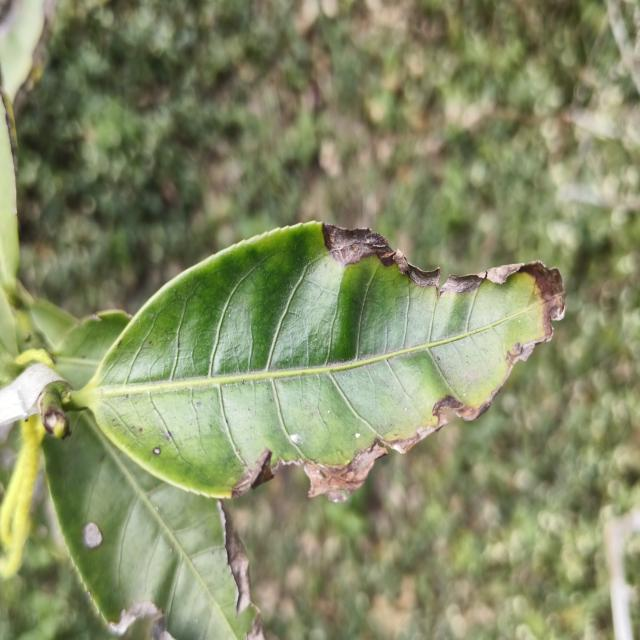Leaf: (71, 223, 564, 498), (44, 411, 263, 640)
